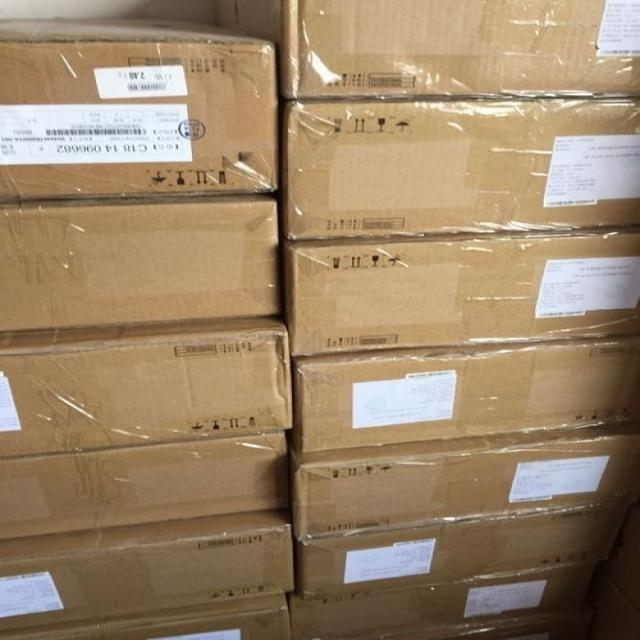box: (286, 418, 639, 603), (275, 96, 639, 244), (0, 17, 280, 201), (280, 227, 639, 361), (283, 331, 639, 453), (0, 312, 293, 460), (0, 193, 283, 330), (0, 510, 296, 633), (0, 430, 291, 541), (282, 560, 607, 639), (0, 593, 293, 639)
